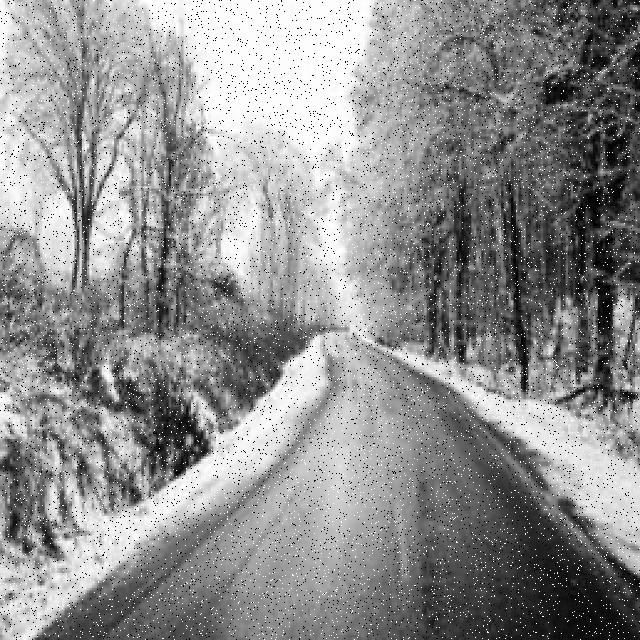ice-road: (28, 332, 640, 640)
